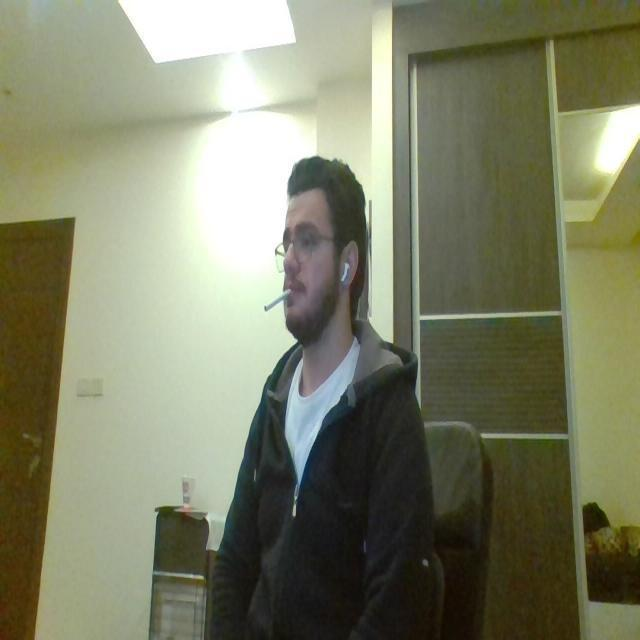smoking: (263, 275, 305, 313)
